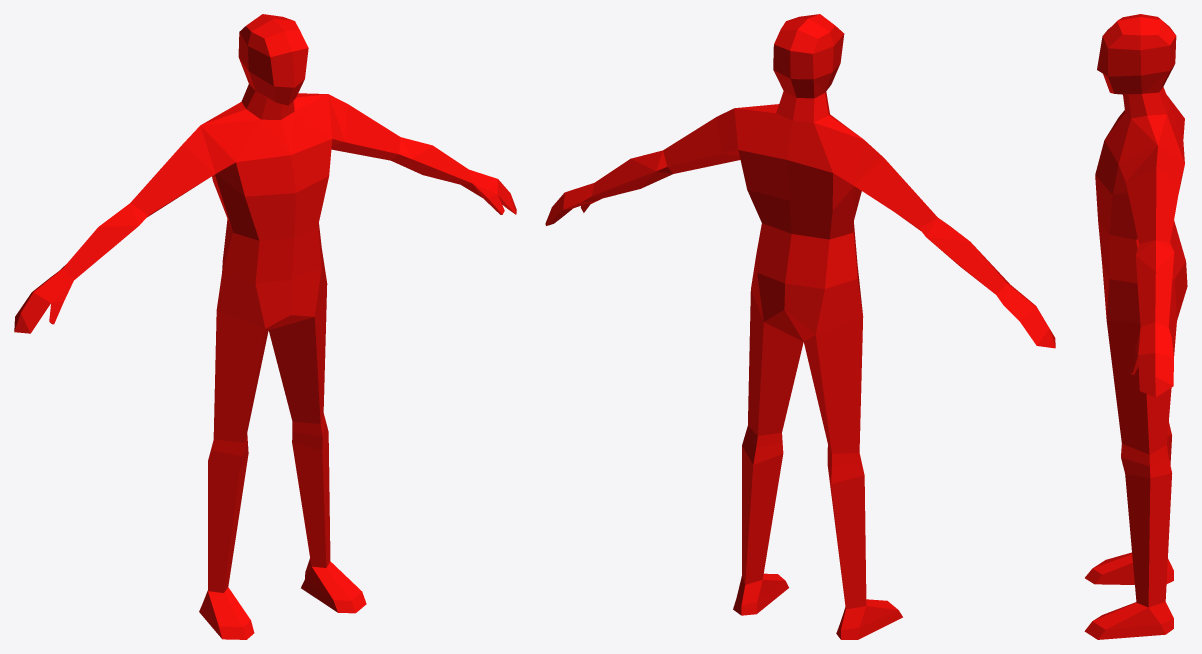
File: humanmodelred.obj
The picture shows the model from 3 angles, left to right: view 1: azimuth 30°, elevation 25°; view 2: azimuth 150°, elevation 25°; view 3: azimuth 270°, elevation 25°; orthographic projection.
Visible parts, largest first — view 1: HumanTest_Circle.001; view 2: HumanTest_Circle.001; view 3: HumanTest_Circle.001.
Part boxes in pixels (x1,y1,x2,y2): HumanTest_Circle.001: (14,14,516,639); HumanTest_Circle.001: (545,14,1055,639); HumanTest_Circle.001: (1084,14,1187,639).
Size of the model in its own units: 1.6 by 1.79 by 0.2848.
